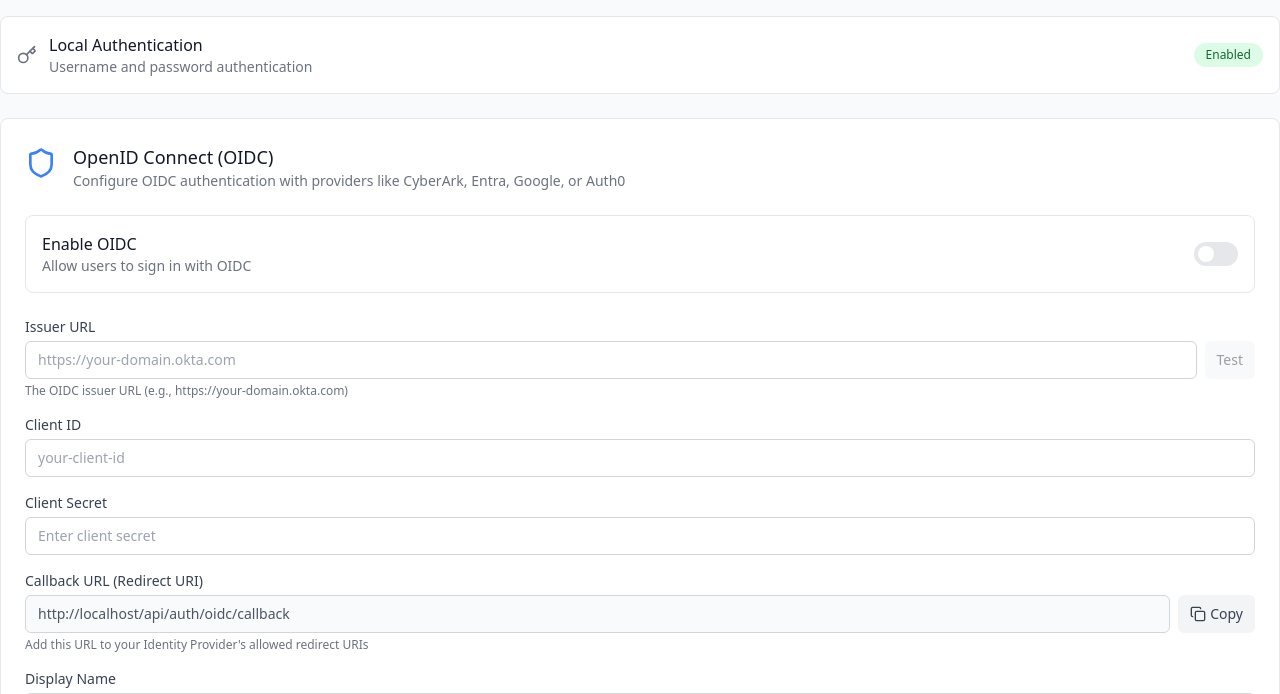
Test: SettingsPage › admin users › tests OIDC connection
(page scrolled)
Expected: the text "Issuer URL" is shown, [25, 317, 95, 336]
Type "https://idp.example.com" into the field with placeholder "https://your-domain.okta.com" at (611, 360), box [25, 341, 1196, 379]
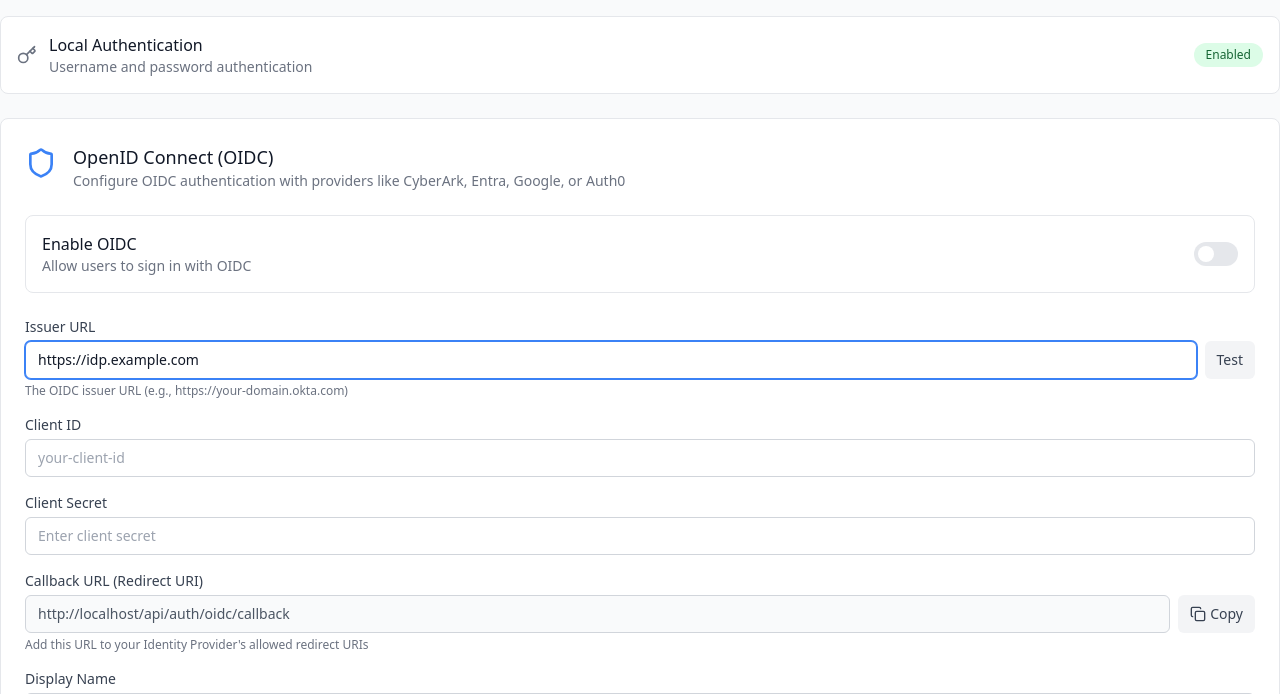
Click the button "Test" at (1230, 360), box [1204, 341, 1255, 379]
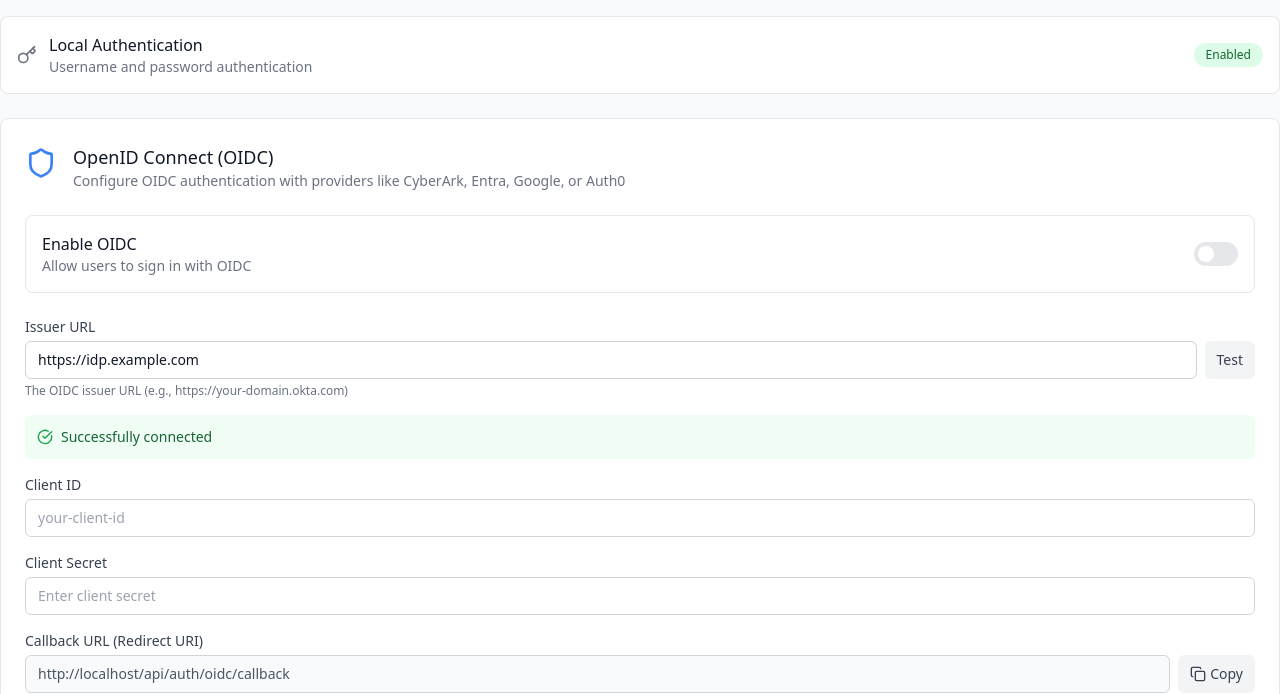
Result: the text "Successfully connected" is shown at [61, 427, 212, 447]
